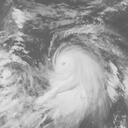cyclone: (41, 43, 116, 127)
